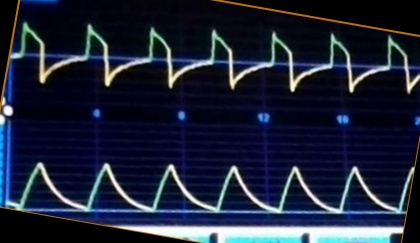Normal Flow: (13, 18, 420, 96)
Normal Volume: (11, 144, 405, 216)
